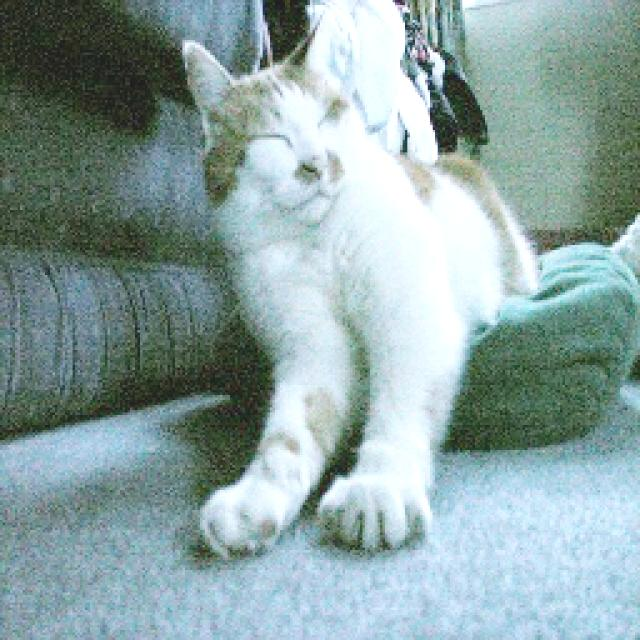cat: (175, 10, 545, 557)
